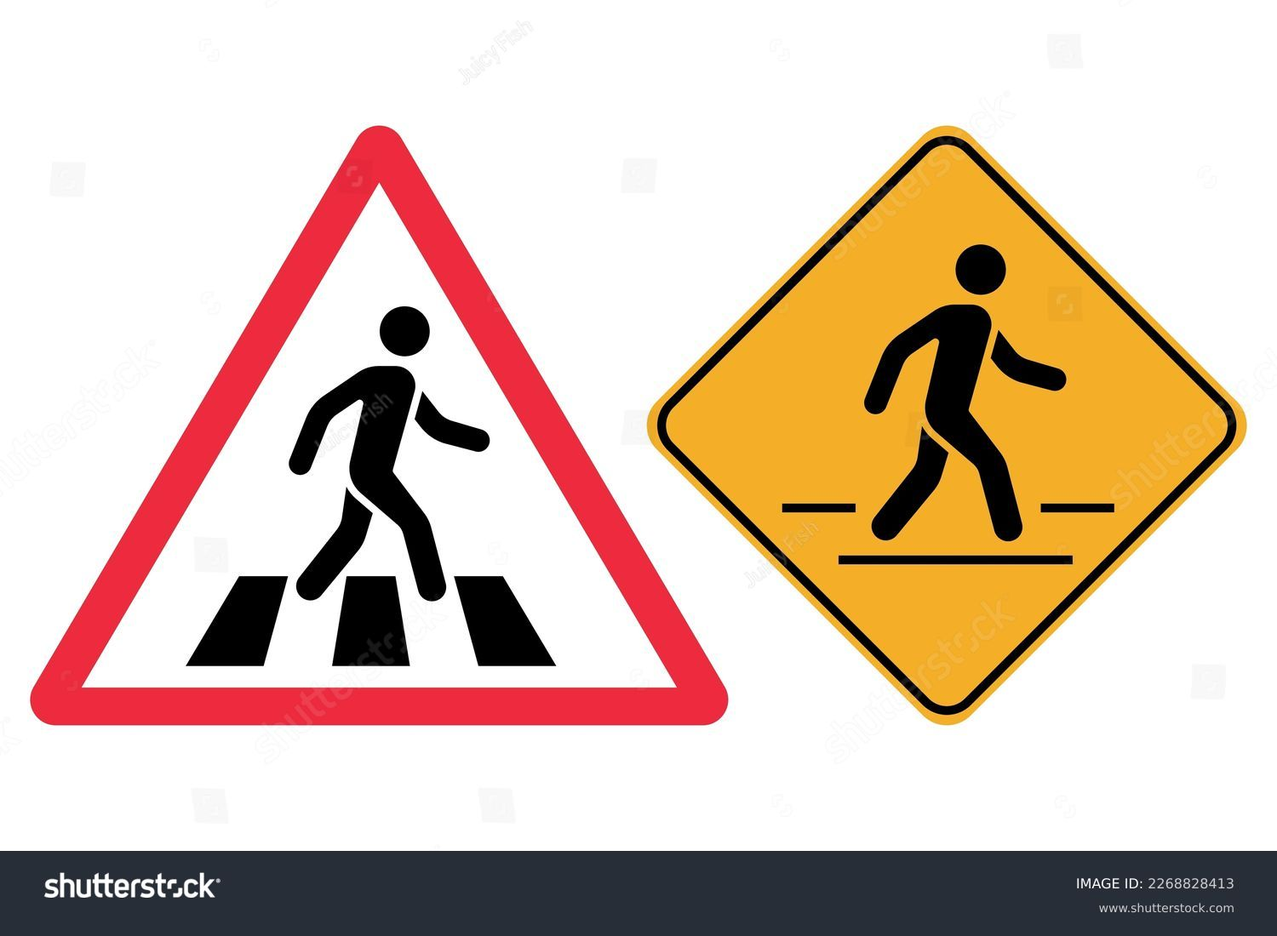CrossSign: (24, 129, 726, 730), (650, 118, 1249, 742)
